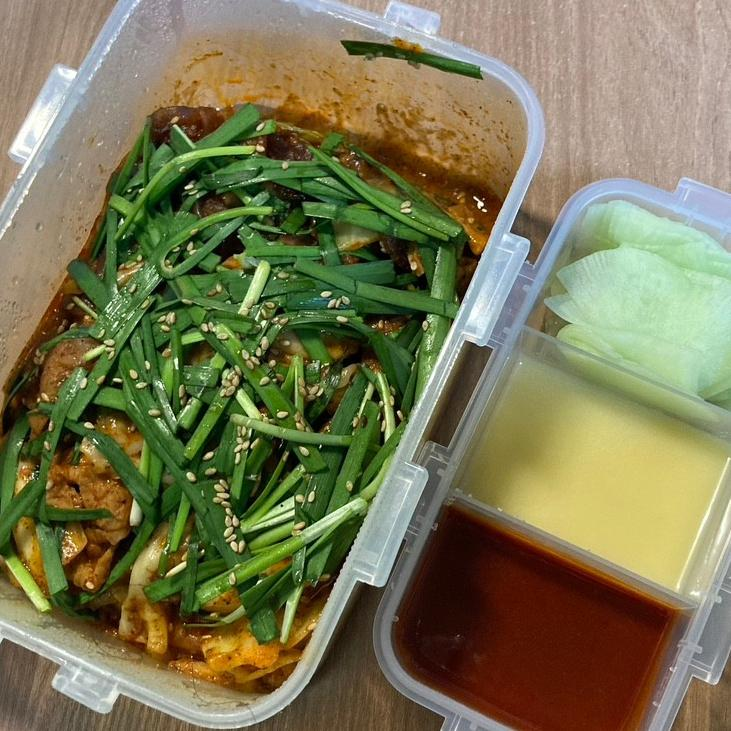Lunch Box: (0, 0, 543, 727), (374, 179, 730, 730)
